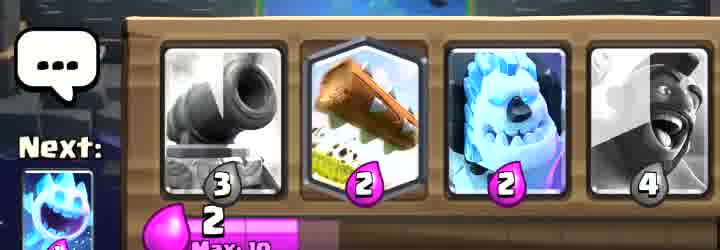ice-golem: (447, 52, 561, 198)
ice-spirit: (25, 171, 93, 250)
log: (311, 43, 423, 191)
